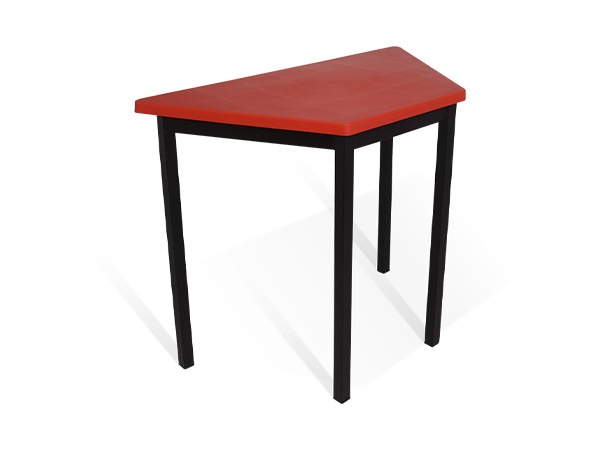m01: (135, 46, 466, 404)
